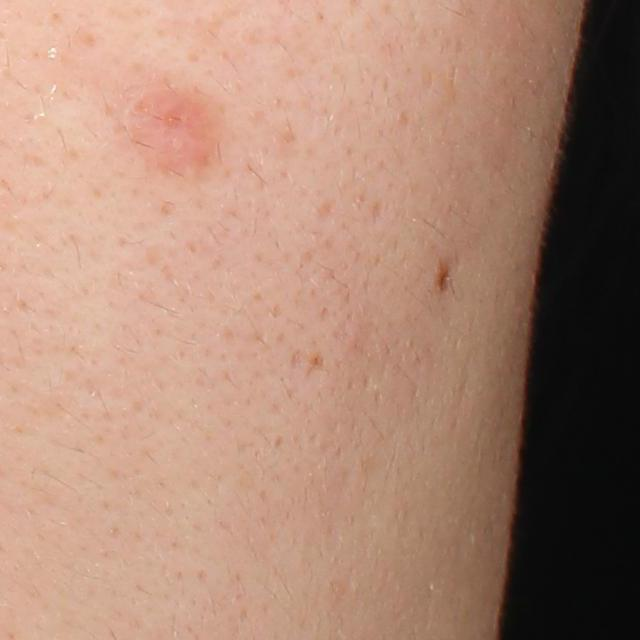nevus: (432, 255, 456, 297)
papule: (126, 86, 234, 169)
